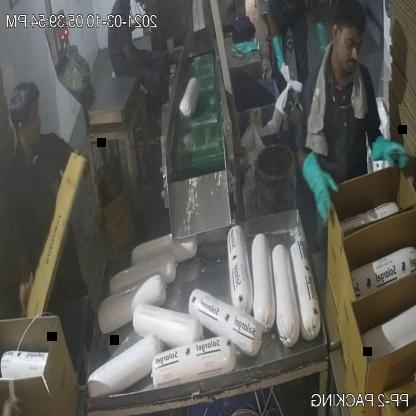glove: (295, 150, 342, 233), (370, 127, 408, 181)
no_glove: (11, 206, 32, 324)
